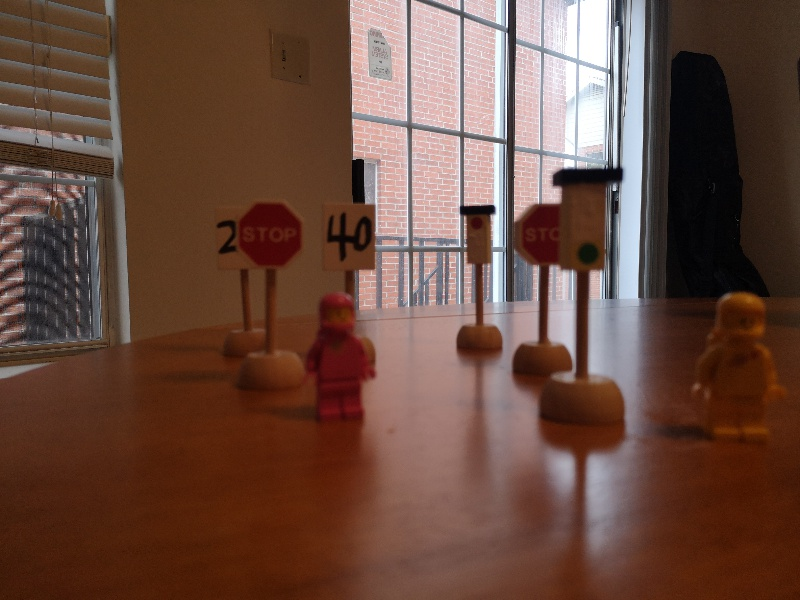Green Traffic Light: (552, 167, 624, 272)
Person: (686, 291, 787, 441), (307, 291, 375, 422)
Red Traffic Light: (458, 204, 494, 266)
Speed Limit 40: (322, 202, 377, 272)
Stop Sign: (238, 201, 306, 270), (512, 201, 560, 267)
